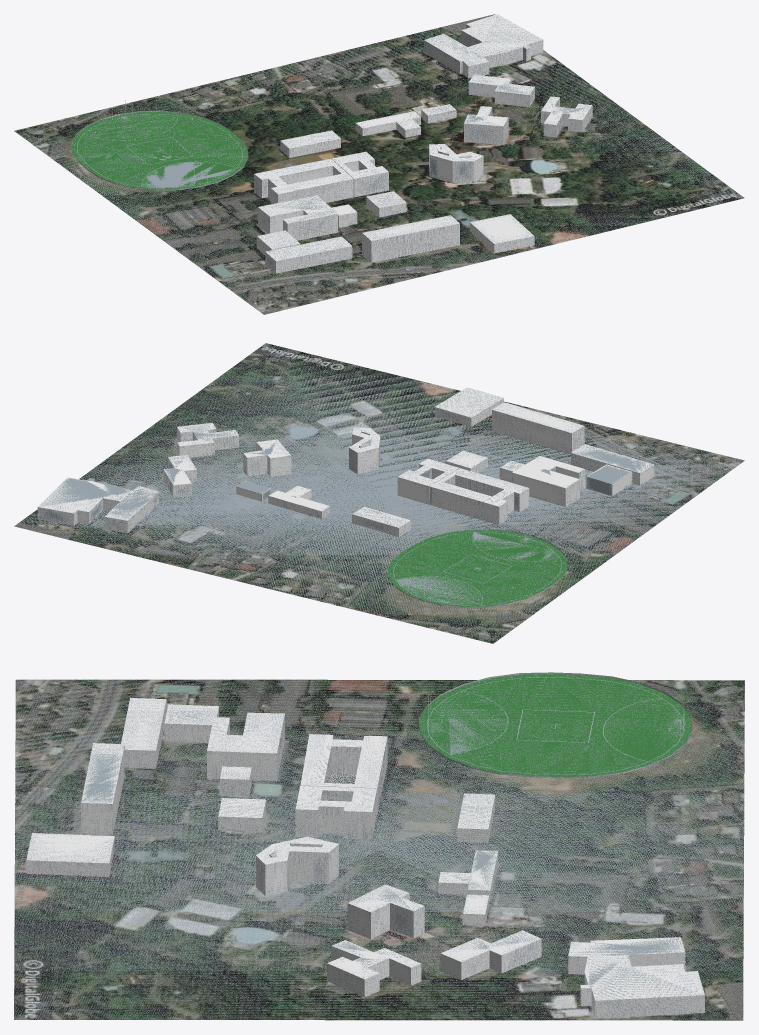
The model's file is UOM_sudden.fbx.
The picture shows the model from 3 angles, top to bottom: view 1: azimuth 30°, elevation 25°; view 2: azimuth 150°, elevation 25°; view 3: azimuth 270°, elevation 25°; orthographic projection. The views are drawn at different scales.
Parts seen in each view (by area): view 1: Location_Snapshot, Ground, Civil_department1, CSE_department1, Administration_building1, Mech_Department1, Model, Chemical_building1, ENTC1, library1, EE_department1, Male_hostel1 (+4 smaller); view 2: Location_Snapshot, Ground, Civil_department1, CSE_department1, Model, Administration_building1, Mech_Department1, library1, Girls_Hostel1, Chemical_building1, EE_department1, ENTC1 (+4 smaller); view 3: Location_Snapshot, Ground, Civil_department1, Model, CSE_department1, Mech_Department1, EE_department1, ENTC1, library1, Girls_Hostel1, Administration_building1, Male_hostel1 (+5 smaller).
Part boxes in pixels (x1=…): Location_Snapshot: x1=14, y1=14, x2=744, y2=314; Ground: x1=71, y1=110, x2=248, y2=190; Civil_department1: x1=424, y1=14, x2=543, y2=78; CSE_department1: x1=254, y1=158, x2=353, y2=204; Administration_building1: x1=362, y1=215, x2=459, y2=262; Mech_Department1: x1=258, y1=195, x2=337, y2=240; Model: x1=257, y1=104, x2=508, y2=255; Chemical_building1: x1=265, y1=236, x2=352, y2=273; ENTC1: x1=429, y1=144, x2=483, y2=182; library1: x1=469, y1=214, x2=534, y2=253; EE_department1: x1=331, y1=151, x2=388, y2=197; Male_hostel1: x1=468, y1=74, x2=534, y2=107; Location_Snapshot: x1=14, y1=343, x2=744, y2=643; Ground: x1=387, y1=528, x2=567, y2=607; Civil_department1: x1=37, y1=477, x2=158, y2=533; CSE_department1: x1=429, y1=468, x2=529, y2=525; Model: x1=236, y1=439, x2=632, y2=501; Administration_building1: x1=492, y1=402, x2=584, y2=454; Mech_Department1: x1=512, y1=456, x2=585, y2=506; library1: x1=434, y1=387, x2=503, y2=426; Girls_Hostel1: x1=177, y1=423, x2=238, y2=457; Chemical_building1: x1=571, y1=444, x2=654, y2=485; EE_department1: x1=397, y1=458, x2=458, y2=504; ENTC1: x1=349, y1=427, x2=380, y2=474; Location_Snapshot: x1=14, y1=679, x2=744, y2=1020; Ground: x1=418, y1=672, x2=692, y2=778; Civil_department1: x1=568, y1=937, x2=704, y2=1018; Model: x1=164, y1=704, x2=489, y2=939; CSE_department1: x1=300, y1=734, x2=387, y2=814; Mech_Department1: x1=207, y1=712, x2=284, y2=780; EE_department1: x1=295, y1=786, x2=376, y2=838; ENTC1: x1=256, y1=836, x2=338, y2=895; library1: x1=26, y1=833, x2=114, y2=876; Girls_Hostel1: x1=327, y1=940, x2=421, y2=997; Administration_building1: x1=81, y1=743, x2=124, y2=835; Male_hostel1: x1=440, y1=930, x2=541, y2=979.
Bounding box in the file's own units: 19553 × 1383 × 17713.
